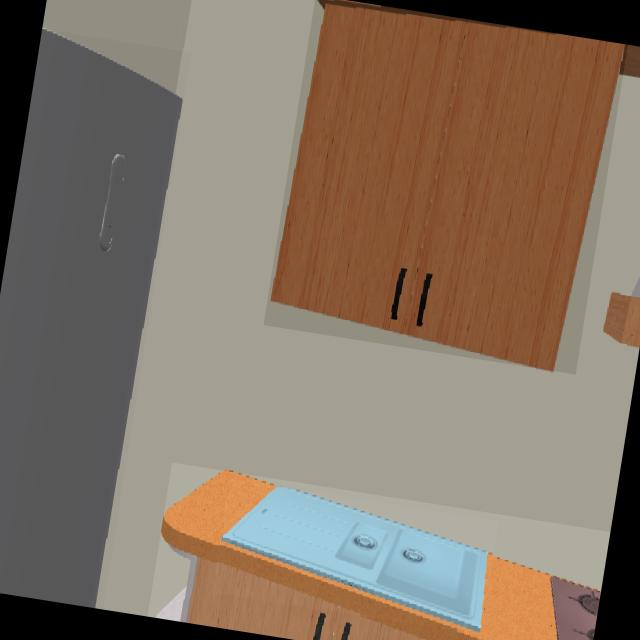cabinet: (268, 0, 628, 371)
countertop: (161, 471, 559, 640)
fridge: (0, 29, 183, 608)
sink: (219, 486, 489, 632)
